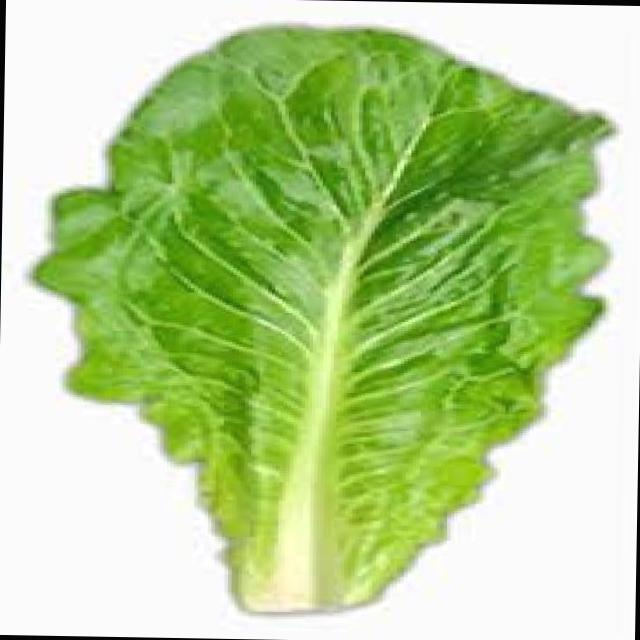Lettuce-Ready-to-Harvest: (36, 28, 608, 609)
